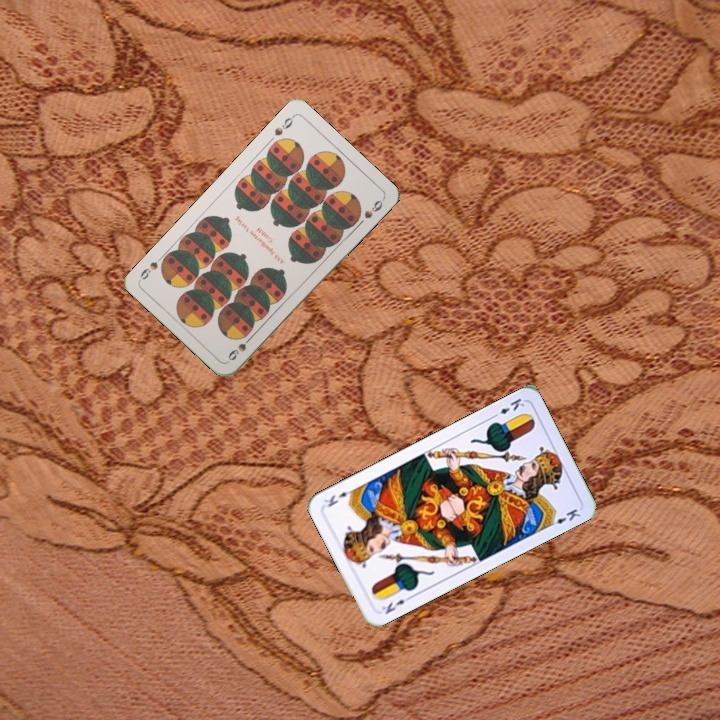EK: (488, 394, 527, 421), (377, 592, 414, 617)
S9: (224, 331, 256, 363), (270, 111, 297, 138)
